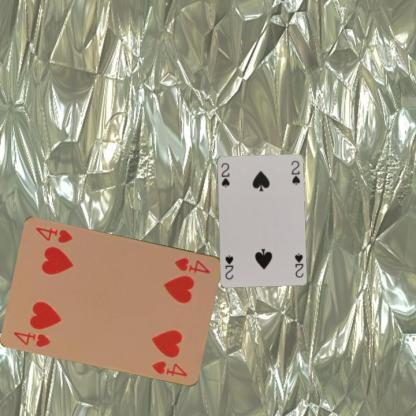2s: (292, 250, 304, 279), (219, 160, 230, 188)
4h: (172, 254, 212, 274), (12, 329, 52, 348)
